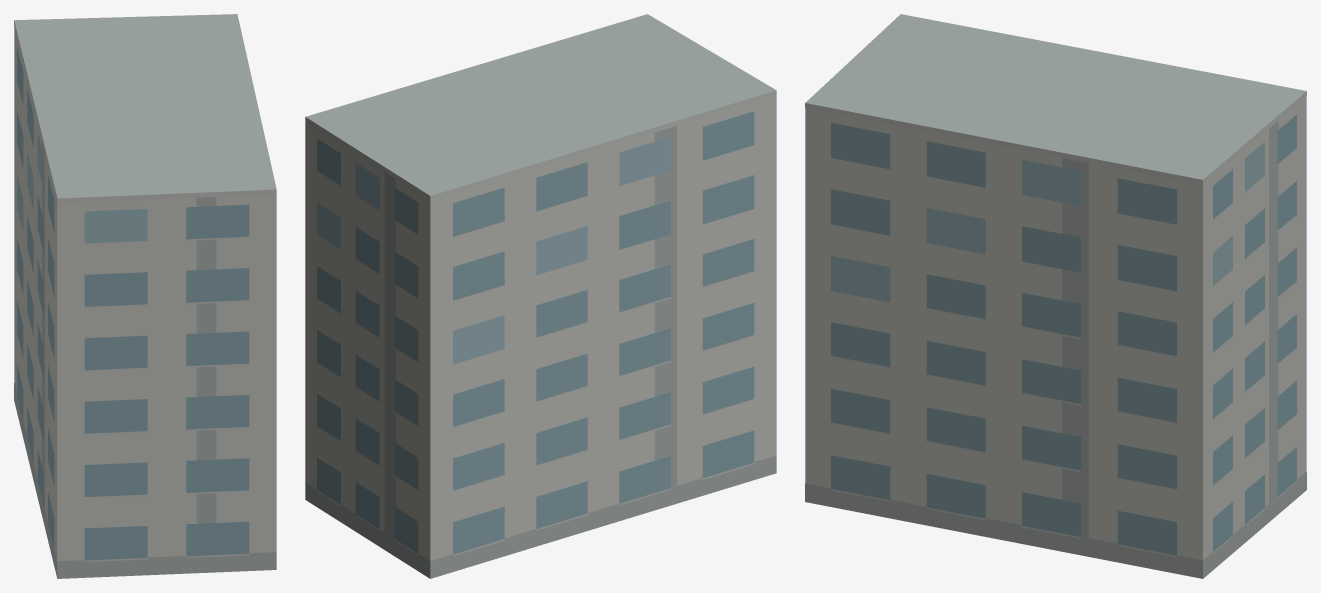
Rendered from survey-upis-32843765.glb.
3 renders of one model, left to right at view 1: azimuth 30°, elevation 25°; view 2: azimuth 150°, elevation 25°; view 3: azimuth 270°, elevation 25°, orthographic. The views are drawn at different scales.
Visible parts, largest first — view 1: survey-upis-32843765.tmp; view 2: survey-upis-32843765.tmp; view 3: survey-upis-32843765.tmp.
Boxes of the visible parts, left/top/right/bottom form: survey-upis-32843765.tmp: left=14, top=14, right=276, bottom=578; survey-upis-32843765.tmp: left=305, top=14, right=776, bottom=578; survey-upis-32843765.tmp: left=805, top=14, right=1306, bottom=578.
Bounding box in the file's own units: 16.33 × 18.3 × 20.86.
